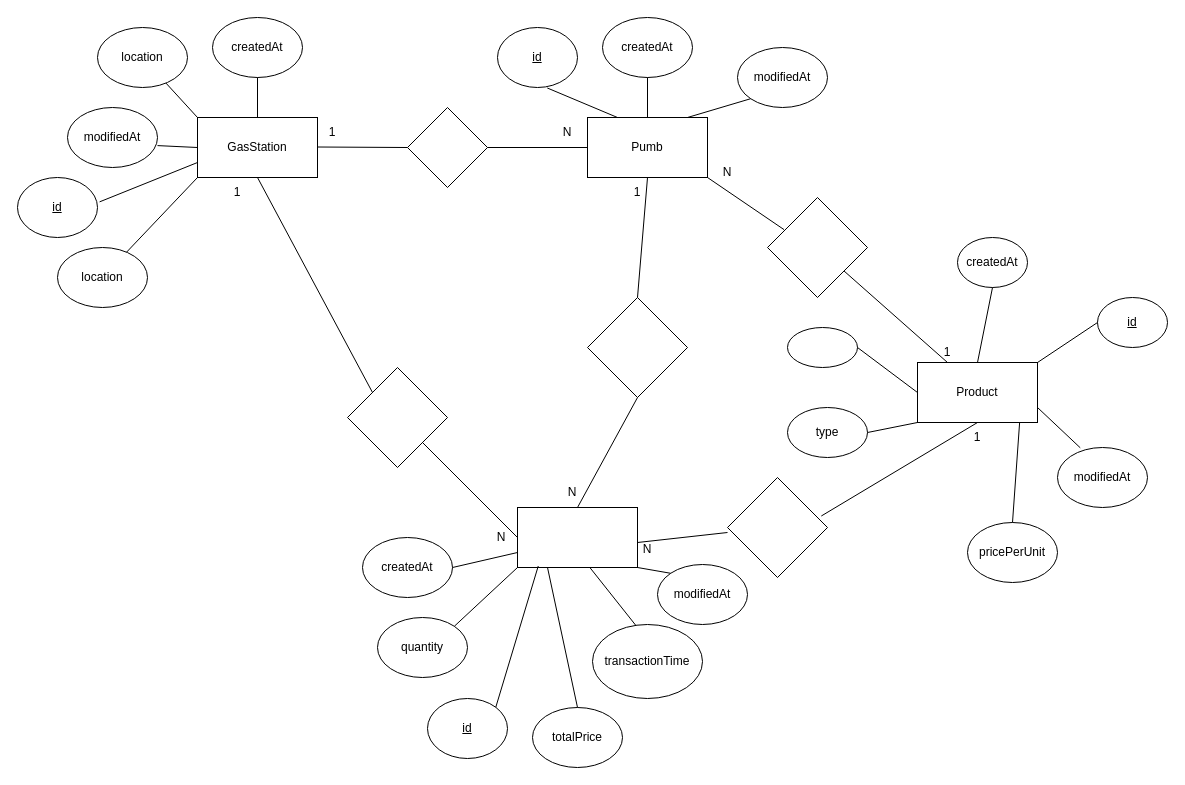
Image size: 1185x785. Some labels were removed from this diagram. The centre of each missing label's shape, as x and y in pixels:
"Distribute" goes at point 817,247.
"Have" goes at point 447,147.
"Includes" goes at point 777,527.
"Is made at" goes at point 637,347.
"name" goes at point 822,347.
"Takes place at" goes at point 397,417.
"Transaction" goes at point 577,537.
